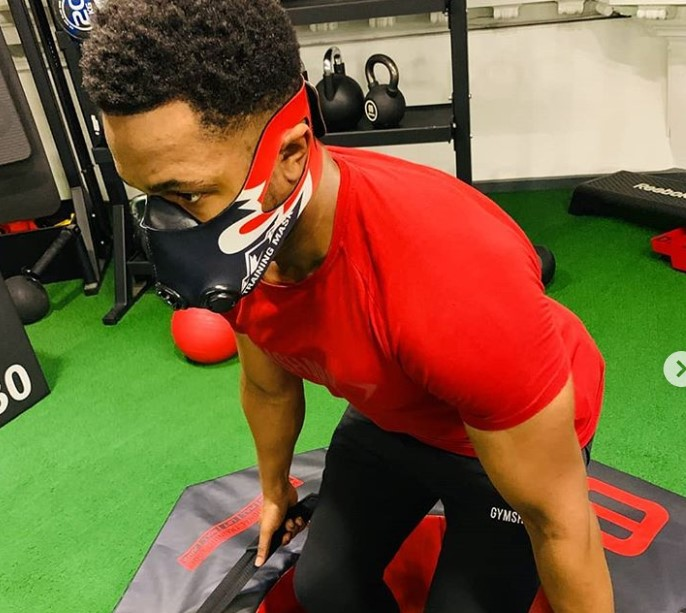face_with_mask: (73, 0, 326, 317)
